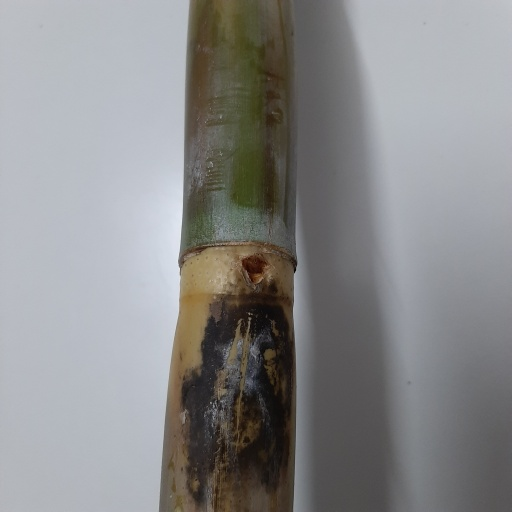Damage_Bud: (239, 251, 272, 292)
